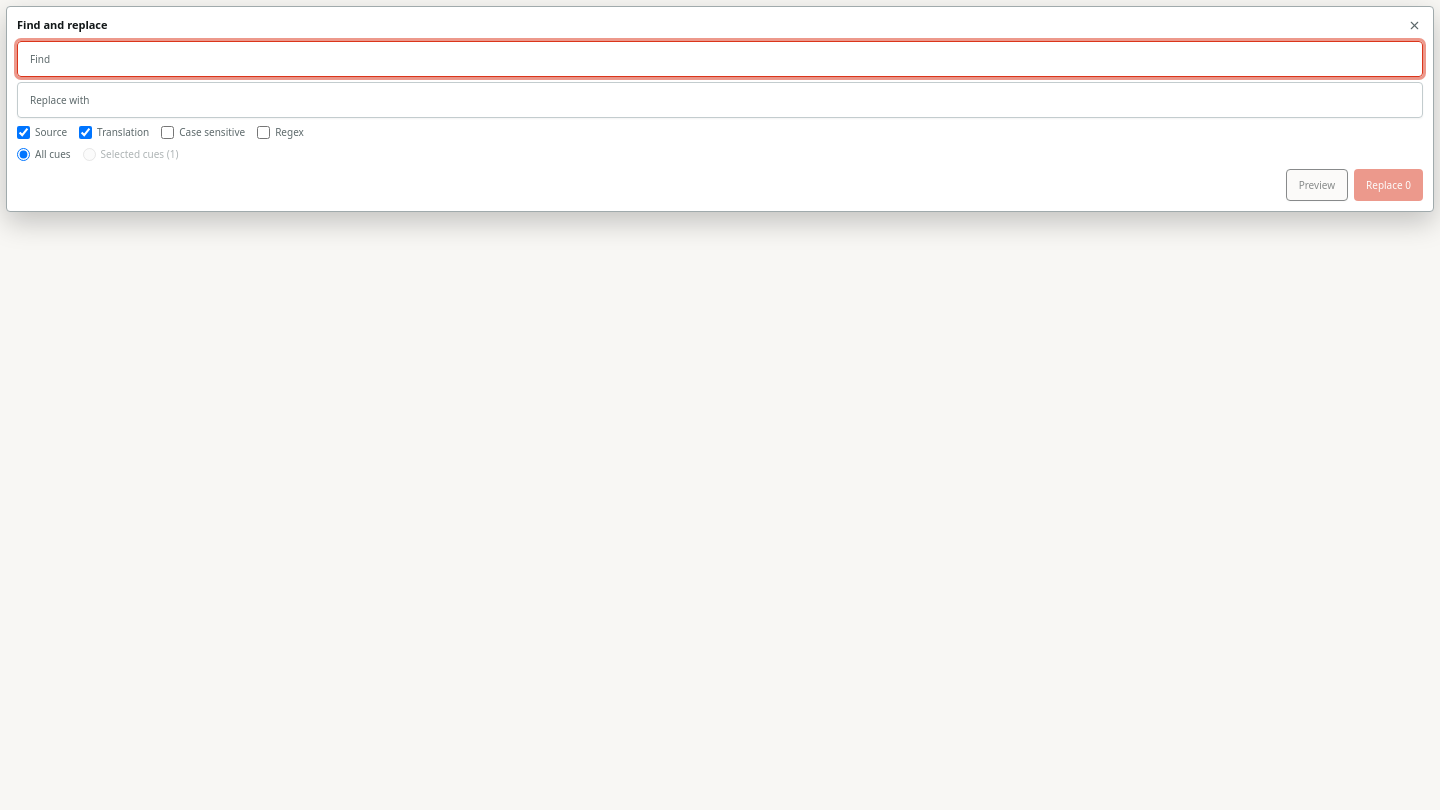
it: FindReplacePanel › shows the invalid_regex error inline and keeps the panel open
The width and height of the screenshot is (1440, 810).
Type "w*(" into the field labelled "Find".
click(720, 59); type("w*(")  # box x1=17 y1=41 x2=1423 y2=77
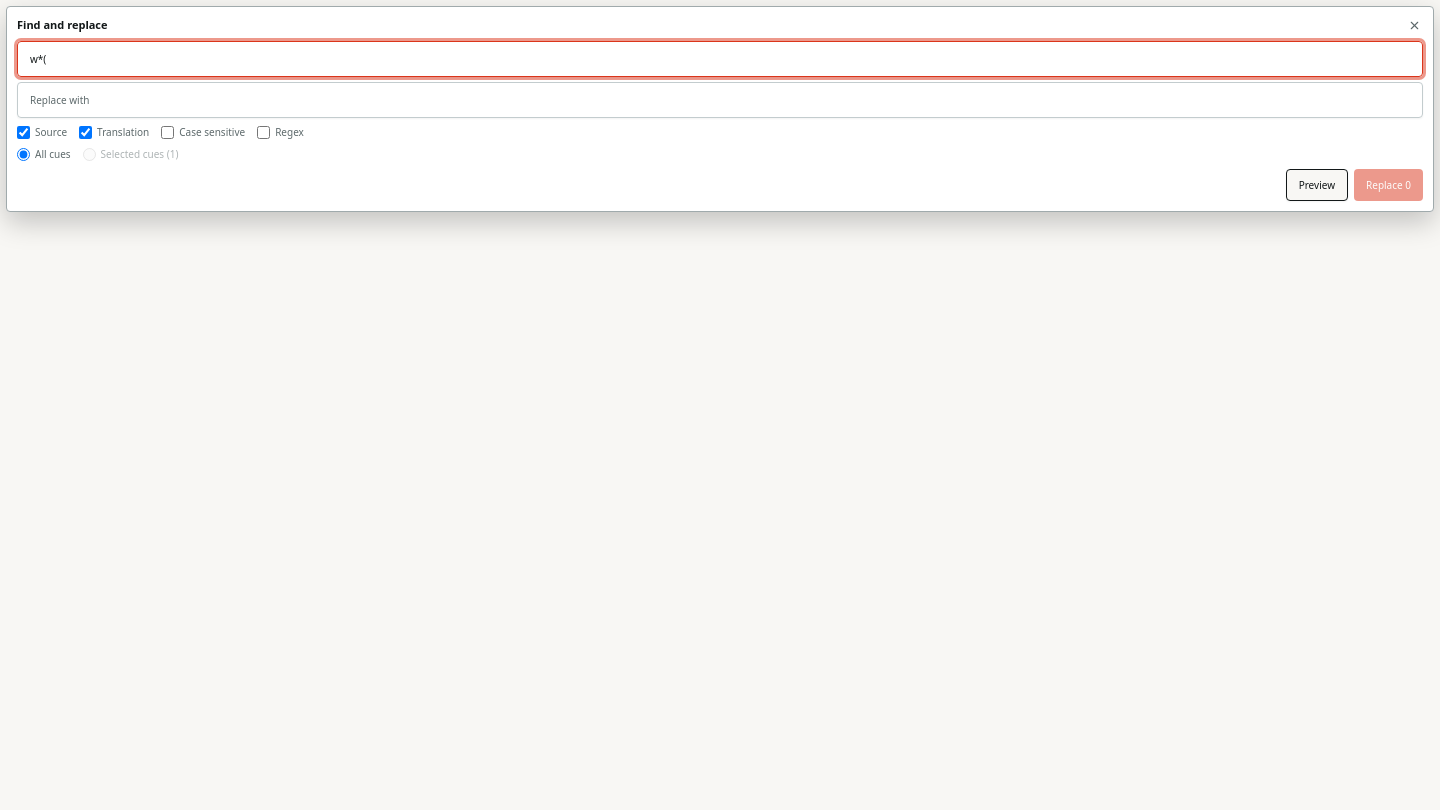
Click the checkbox labelled "Regex".
click(264, 132)  # box x1=257 y1=126 x2=270 y2=139
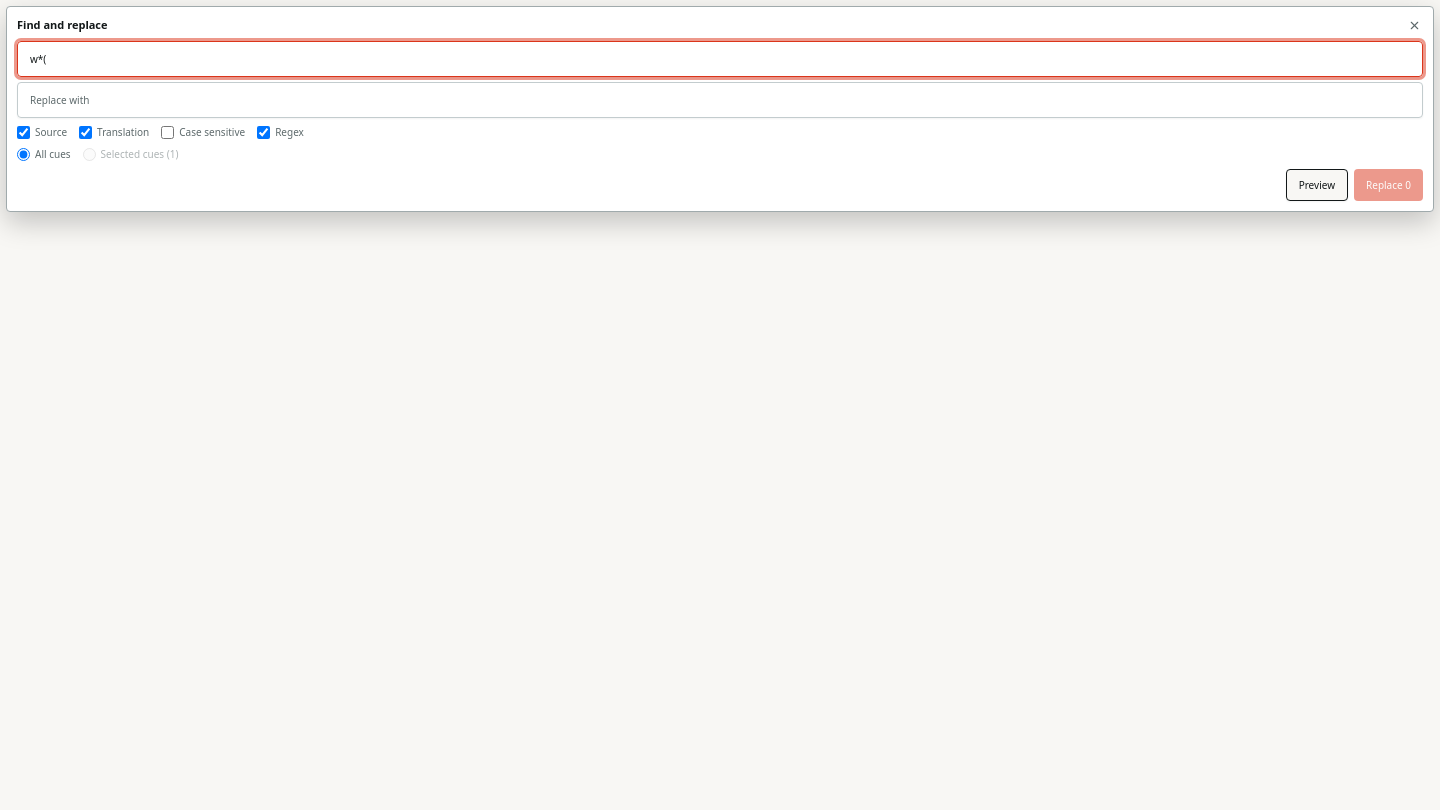
Click the button "Preview".
click(1317, 185)  # box x1=1286 y1=169 x2=1348 y2=201
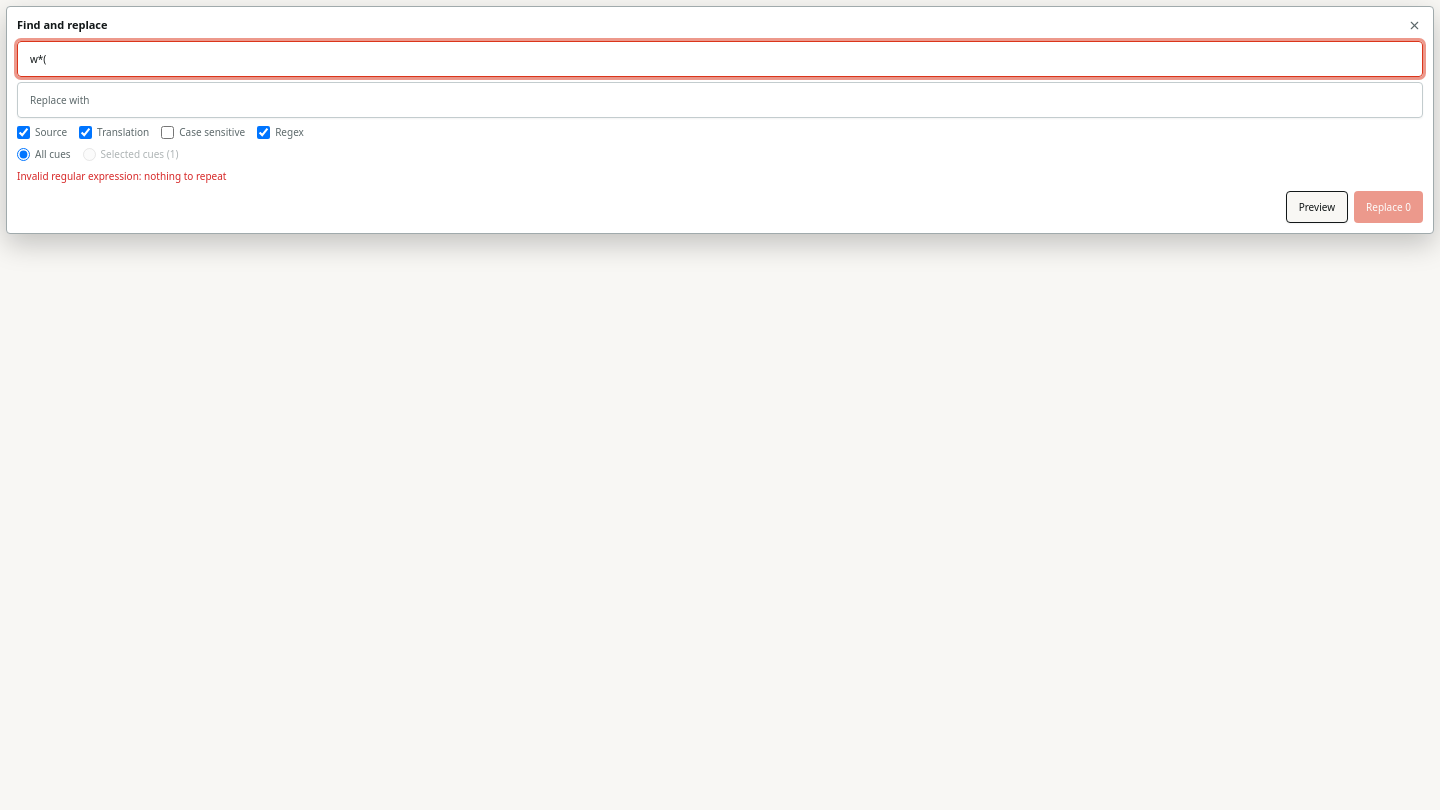
expect the button "Replace 0" is disabled: met, box x1=1354 y1=191 x2=1423 y2=223
expect the text "Invalid regular expression: nothing to repeat" is shown: met, box x1=17 y1=169 x2=226 y2=183
